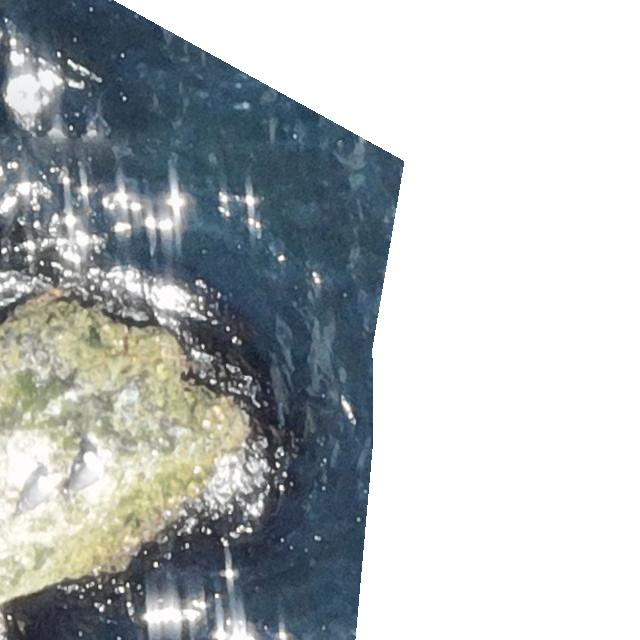umineko: (17, 475, 55, 514), (71, 446, 104, 489)
